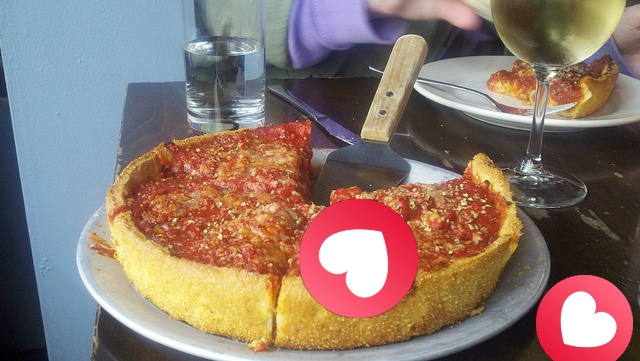love: (299, 199, 418, 318), (536, 275, 633, 361)
